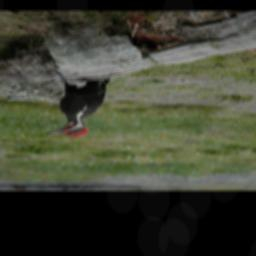Woodpecker: (45, 74, 111, 140)
